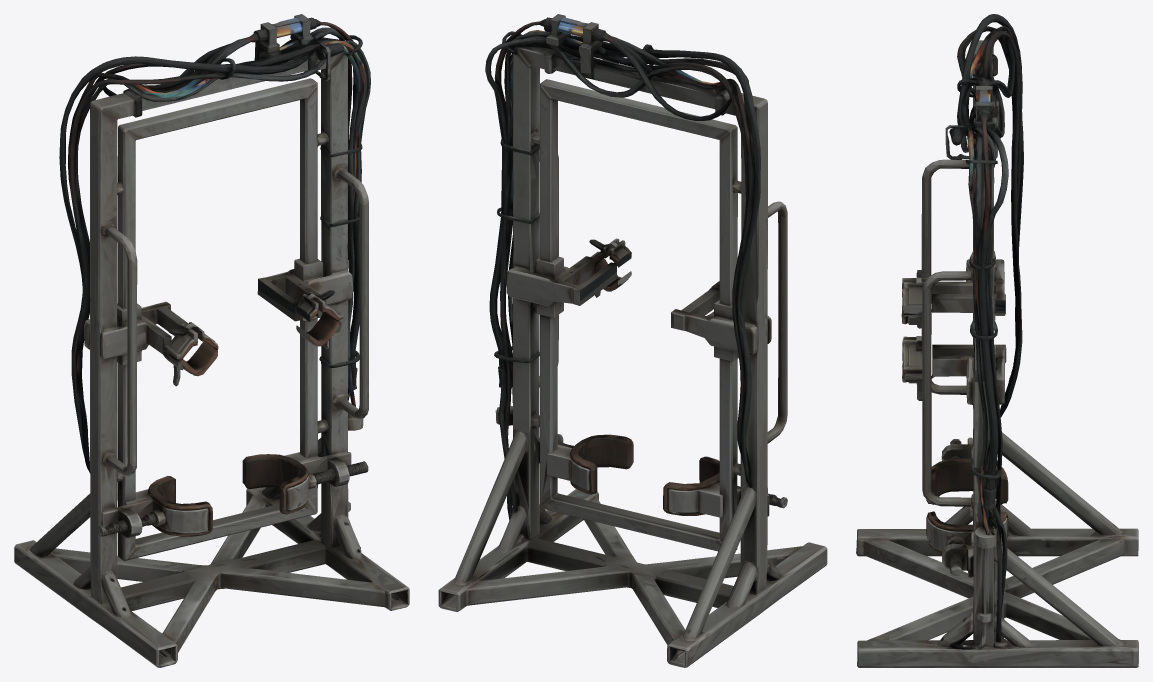
Rendered from prop_surgery_rig.glb.
The picture shows the model from 3 angles, left to right: view 1: azimuth 30°, elevation 25°; view 2: azimuth 150°, elevation 25°; view 3: azimuth 270°, elevation 25°; orthographic projection.
Parts seen in each view (by area): view 1: world; view 2: world; view 3: world.
Boxes of the visible parts, x1=… form: world: x1=14, y1=14, x2=409, y2=667; world: x1=438, y1=14, x2=827, y2=667; world: x1=856, y1=14, x2=1138, y2=667.
Bounding box in the file's own units: 1.2 × 2.2 × 1.03.
1 material, 1 textured.
